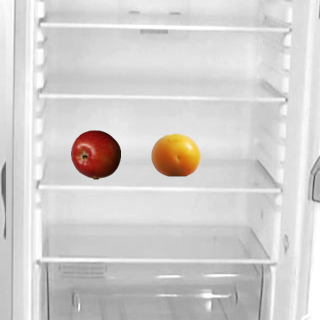Apple Braeburn: (70, 129, 120, 179)
Cherry Wax Yellow: (150, 129, 200, 179)
